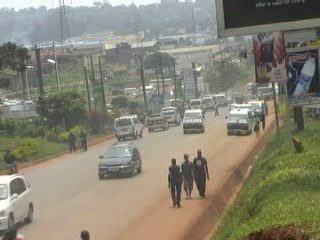Car: (0, 170, 37, 232), (95, 140, 143, 178), (146, 111, 170, 135)
